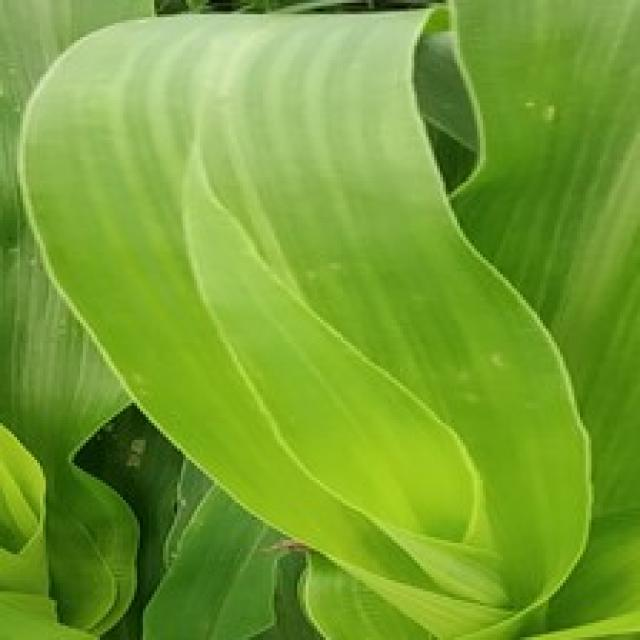Corn: (0, 0, 637, 637), (426, 0, 637, 637), (0, 0, 163, 637)
